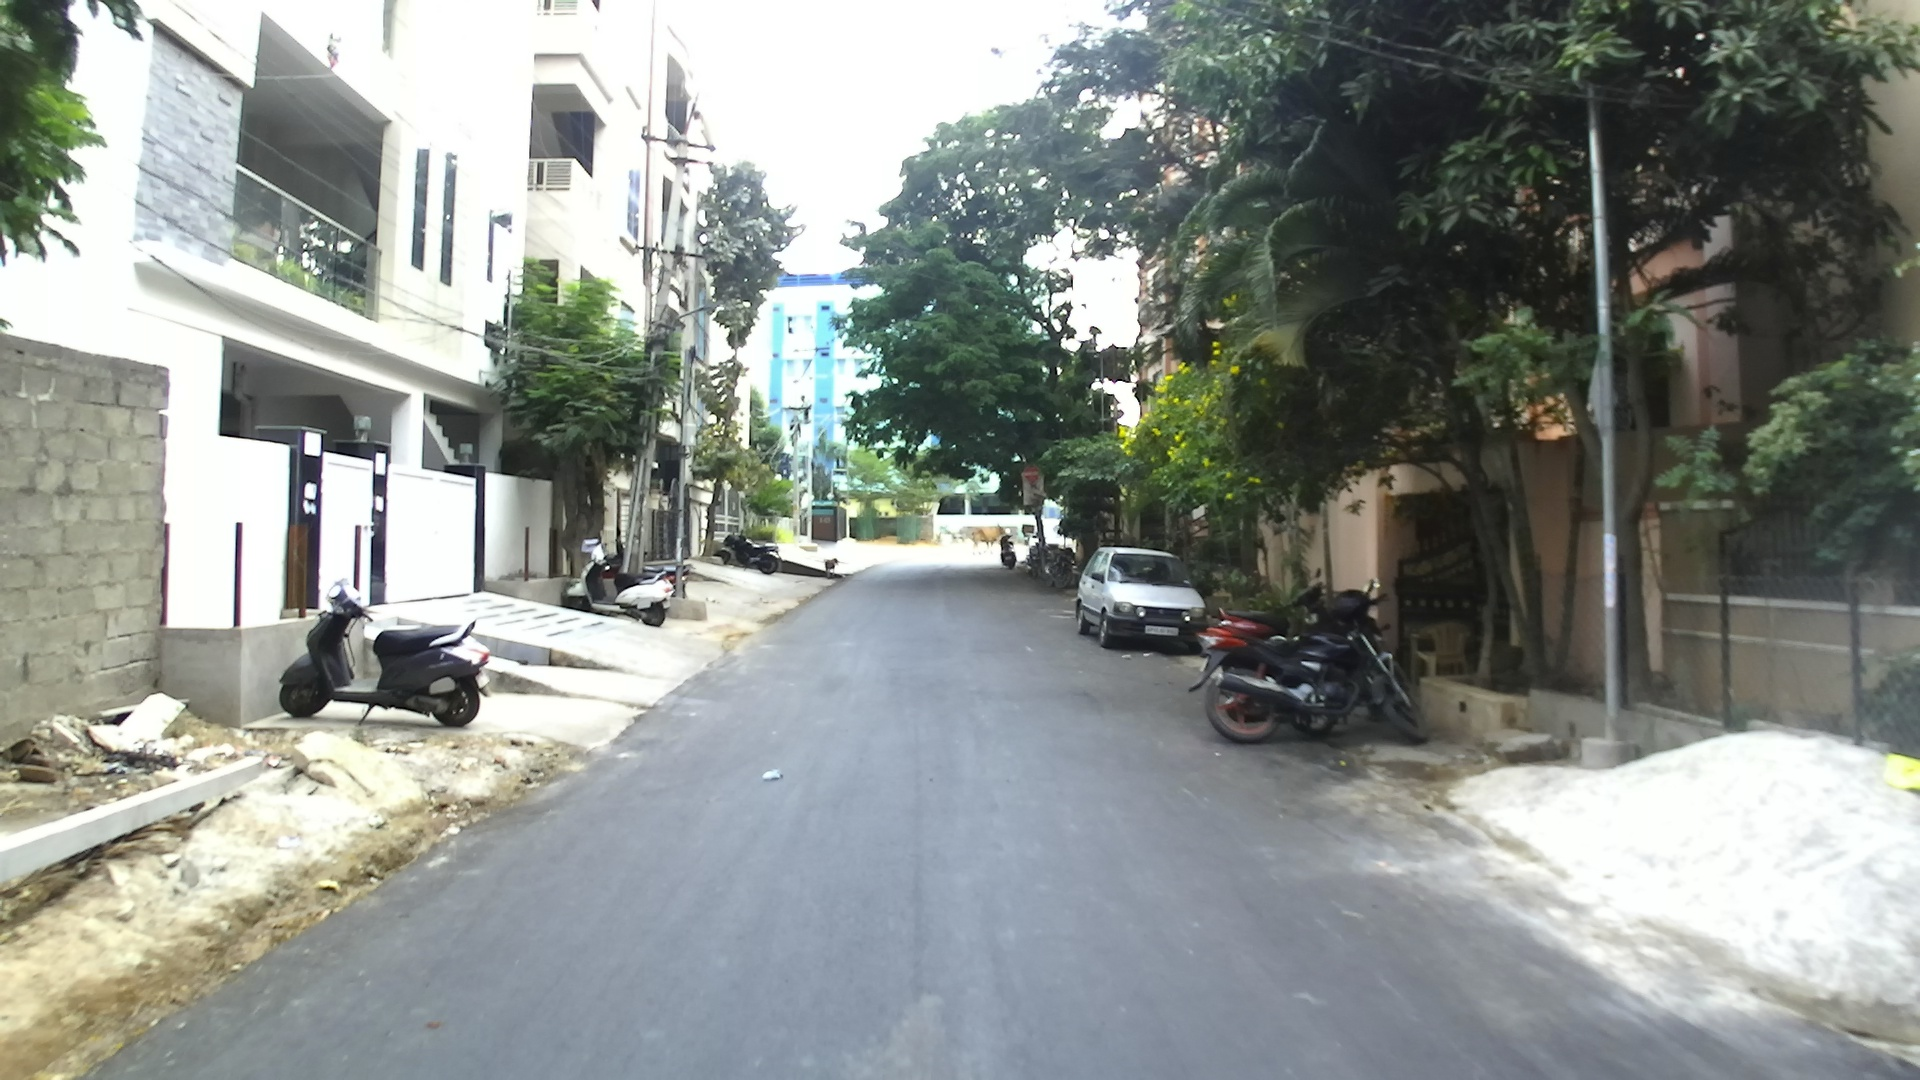vehicle: (1195, 591, 1428, 742), (274, 582, 492, 729), (1073, 546, 1207, 650)
